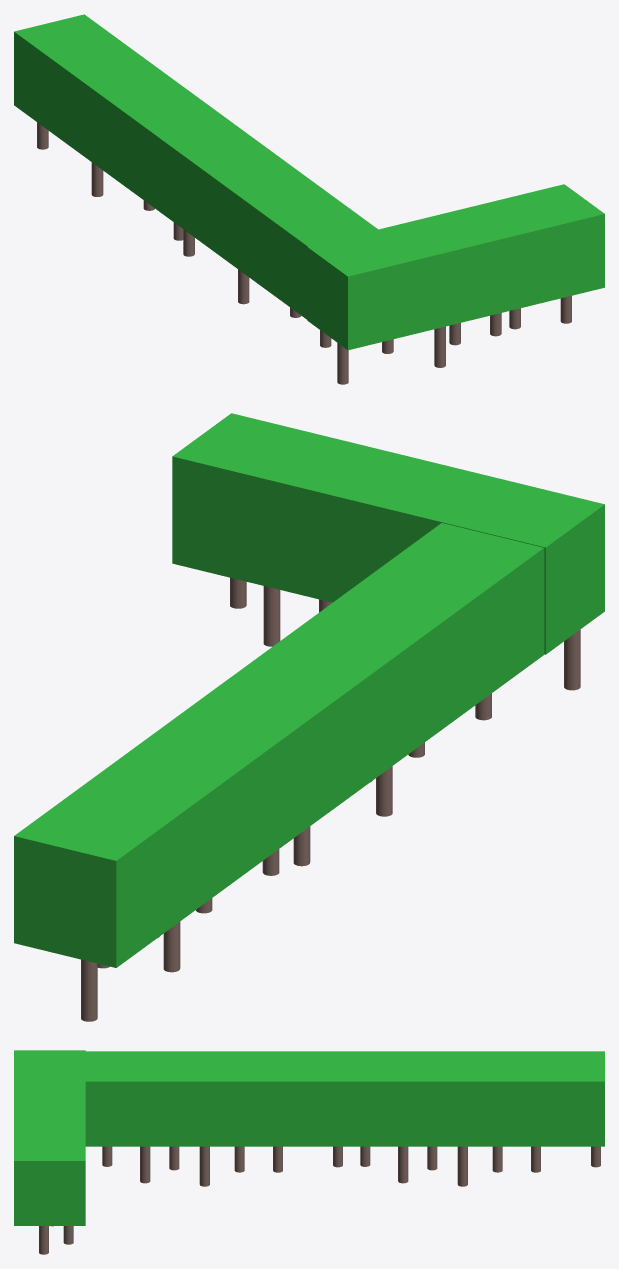
File: arbustoE1.glb
3 views of the same model, one above another, from view 1: azimuth 30°, elevation 25°; view 2: azimuth 150°, elevation 25°; view 3: azimuth 270°, elevation 25° (orthographic). The views are drawn at different scales.
Visible parts, largest first — view 1: Cube.037, Cube.047, Cube.049; view 2: Cube.049, Cube.037, Cube.047, Cylinder.013, Cylinder.052, Cylinder.010, Cylinder.053; view 3: Cube.049, Cube.047, Cube.037, Cylinder.056, Cylinder.049, Cylinder.055, Cylinder.048, Cylinder.053, Cylinder.046.
Part boxes in pixels (box(x1,y1,x2,y2)): Cube.037: box(307, 184, 604, 350); Cube.047: box(160, 121, 377, 319); Cube.049: box(14, 14, 230, 211); Cube.049: box(14, 680, 331, 967); Cube.037: box(172, 413, 604, 654); Cube.047: box(227, 523, 544, 812); Cylinder.013: box(263, 586, 280, 646); Cylinder.052: box(81, 959, 97, 1021); Cylinder.010: box(564, 629, 580, 690); Cylinder.053: box(163, 921, 180, 972); Cube.049: box(343, 1051, 604, 1146); Cube.047: box(85, 1051, 346, 1146); Cube.037: box(14, 1050, 85, 1225); Cylinder.056: box(457, 1146, 467, 1186); Cylinder.049: box(199, 1146, 209, 1186); Cylinder.055: box(398, 1146, 408, 1183); Cylinder.048: box(140, 1146, 150, 1183); Cylinder.053: box(492, 1146, 502, 1172); Cylinder.046: box(234, 1146, 244, 1172).
Size of the model in its own units: 12.51 by 5.79 by 28.24.
